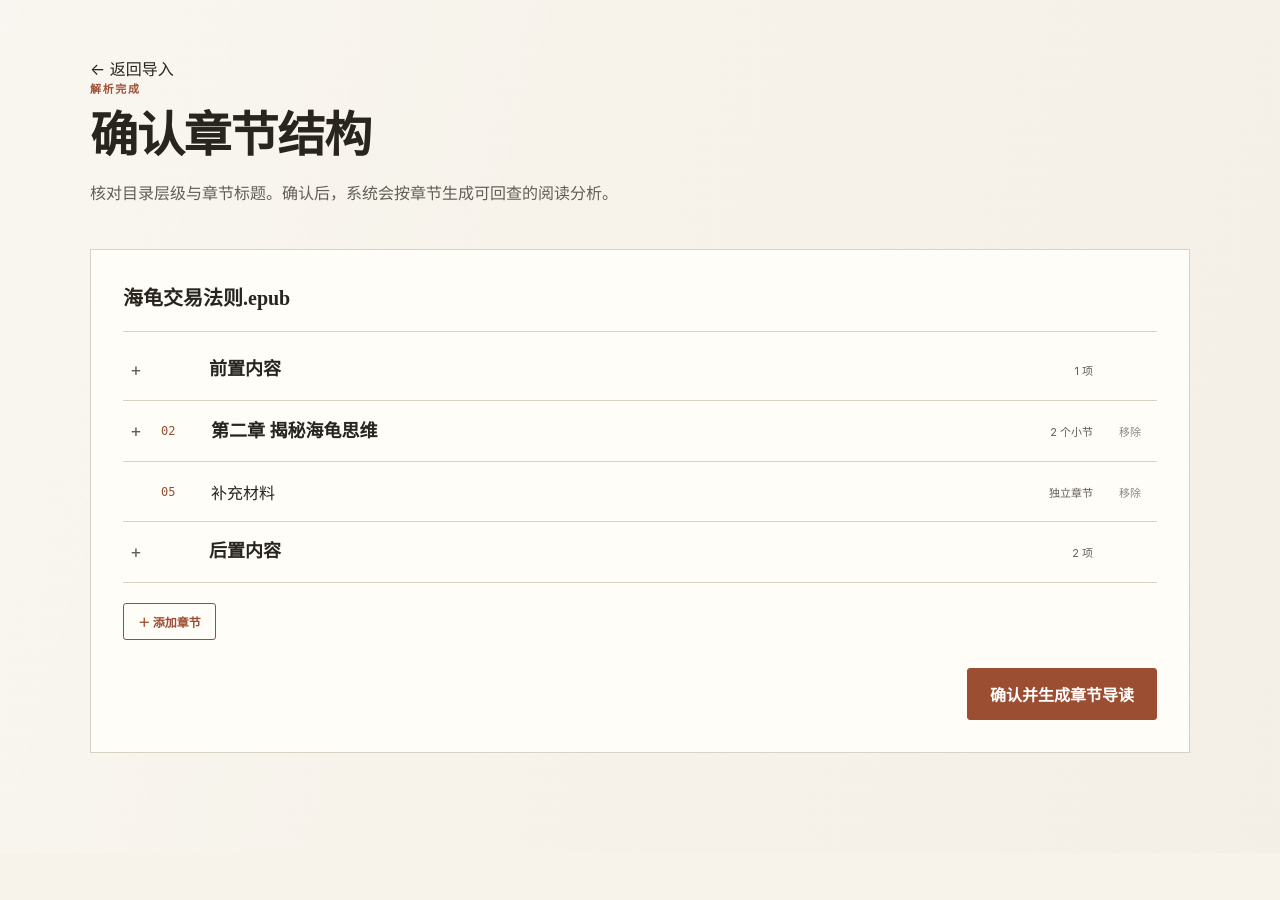
Test: ChapterEditor hierarchy › groups EPUB sections under collapsed publisher chapters
The image size is (1280, 900).
expect the field showing "情绪陷阱" is not shown: met
What coordinates should you click on to do the following:
click the button named "展开「第二章 揭秘海龟思维」的小节"
I would click on:
 (136, 431)
Its box is x1=123 y1=418 x2=149 y2=444.
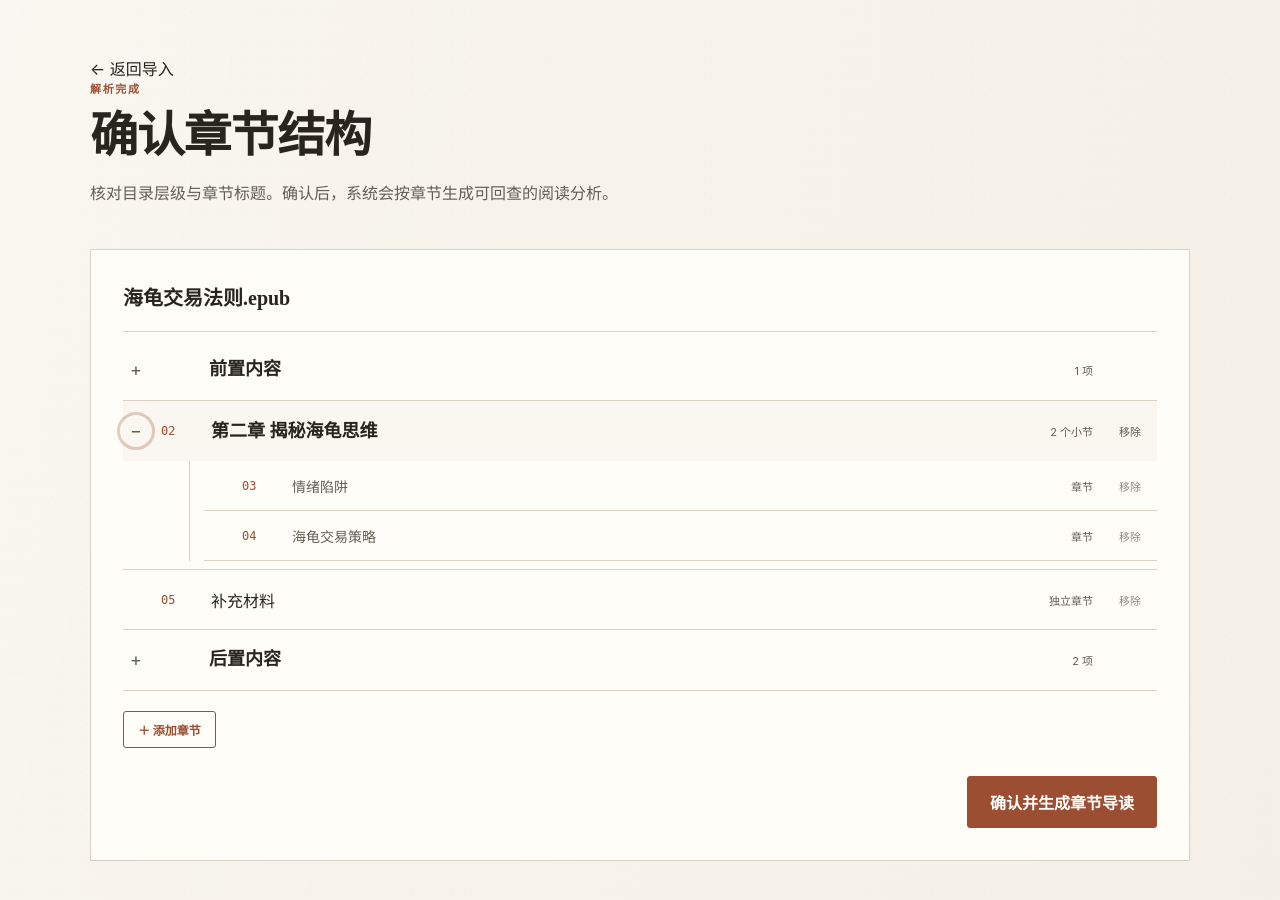
expect the field showing "情绪陷阱" next to "03" is shown: met, box x1=290 y1=470 x2=1001 y2=502
expect the field showing "海龟交易策略" next to "04" is shown: met, box x1=290 y1=520 x2=1001 y2=552
expect the button named "展开「第二章 揭秘海龟思维」的小节" is expanded: met, box x1=123 y1=418 x2=149 y2=444
